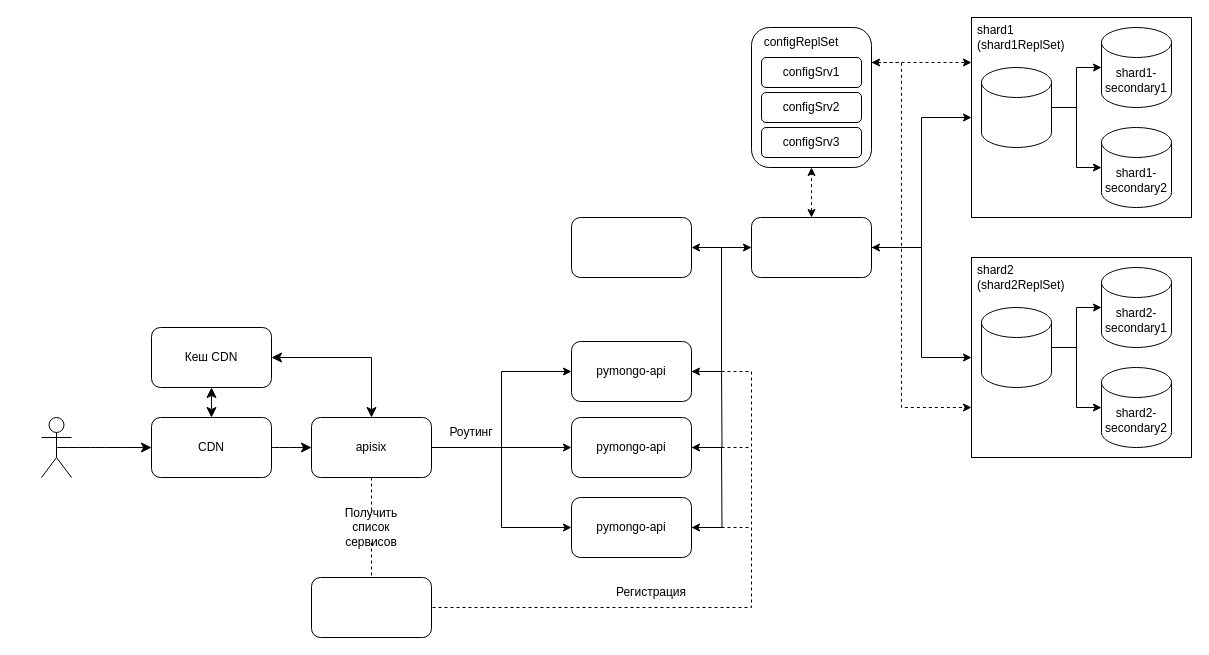
The diagram is 1209 pixels wide and 655 high, and some of its shapes have lost their labels. The centre of each missing label's shape, as x and y in pixels:
"consul" goes at pixel 371 607.
"mongos_router" goes at pixel 811 247.
"redis" goes at pixel 631 247.
"shard1-primary" goes at pixel 1016 107.
"shard2-primary" goes at pixel 1016 347.
"Пользователь" goes at pixel 56 447.
